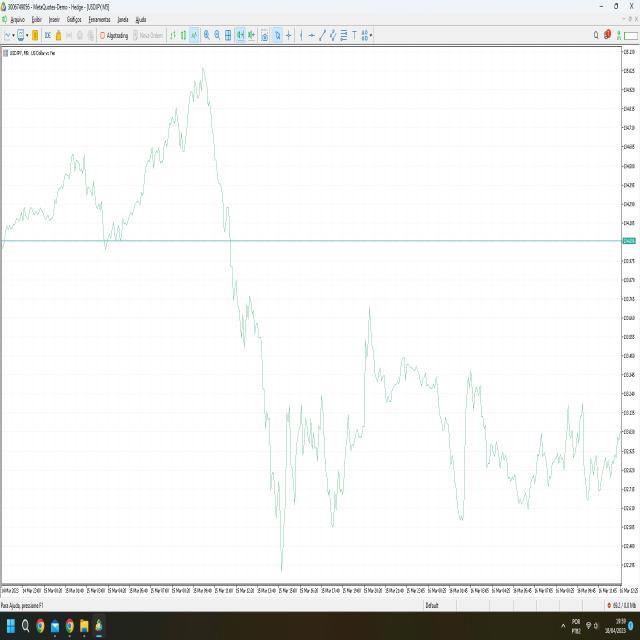bandeira_baixa: (210, 164, 264, 361)
fundo_duplo: (248, 367, 369, 580)
